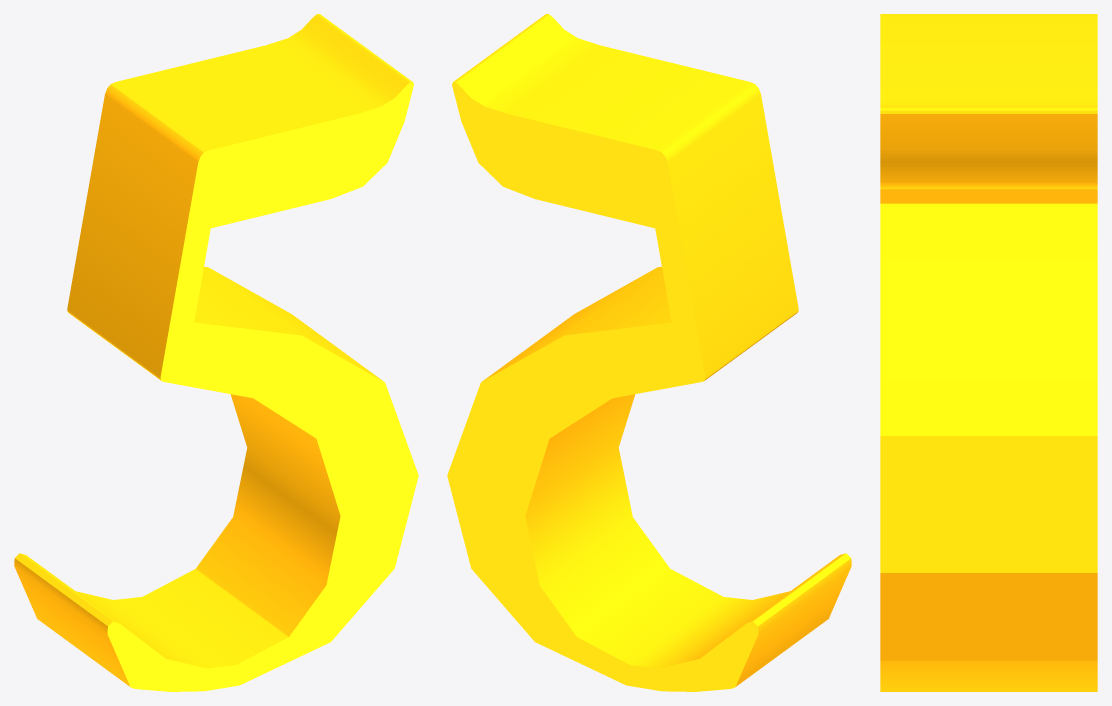
Rendered from bd2ed830-fa79-4eb4-bd7d-6983a7caa17d.glb.
The picture shows the model from 3 angles, left to right: view 1: azimuth 30°, elevation 25°; view 2: azimuth 150°, elevation 25°; view 3: azimuth 270°, elevation 25°; orthographic projection. The views are drawn at different scales.
Parts seen in each view (by area): view 1: 5_Soul_Yellow; view 2: 5_Soul_Yellow; view 3: 5_Soul_Yellow.
Part boxes in pixels (left/top/right/bottom): 5_Soul_Yellow: left=14, top=14, right=418, bottom=691; 5_Soul_Yellow: left=447, top=14, right=851, bottom=691; 5_Soul_Yellow: left=880, top=14, right=1097, bottom=691.
Size of what is drawn, in the model's own units: 0.0867 by 0.1494 by 0.045.
Materials: 2 (2 with a texture image).
